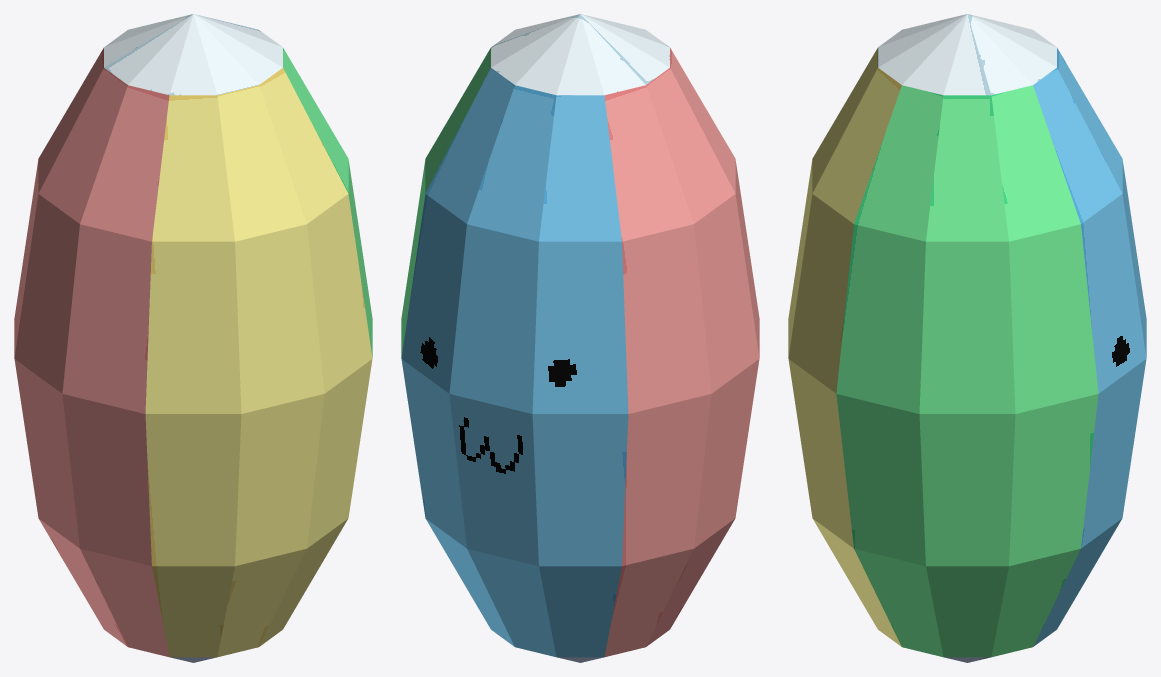
File: guy.gltf
The picture shows the model from 3 angles, left to right: view 1: azimuth 30°, elevation 25°; view 2: azimuth 150°, elevation 25°; view 3: azimuth 270°, elevation 25°; orthographic projection.
Parts seen in each view (by area): view 1: sphere; view 2: sphere; view 3: sphere.
Boxes of the visible parts, left/top/right/bottom form: sphere: left=14, top=14, right=372, bottom=662; sphere: left=401, top=14, right=759, bottom=662; sphere: left=788, top=14, right=1146, bottom=662.
Bounding box in the file's own units: 1 × 2 × 1.
Materials: 1 (1 with a texture image).
